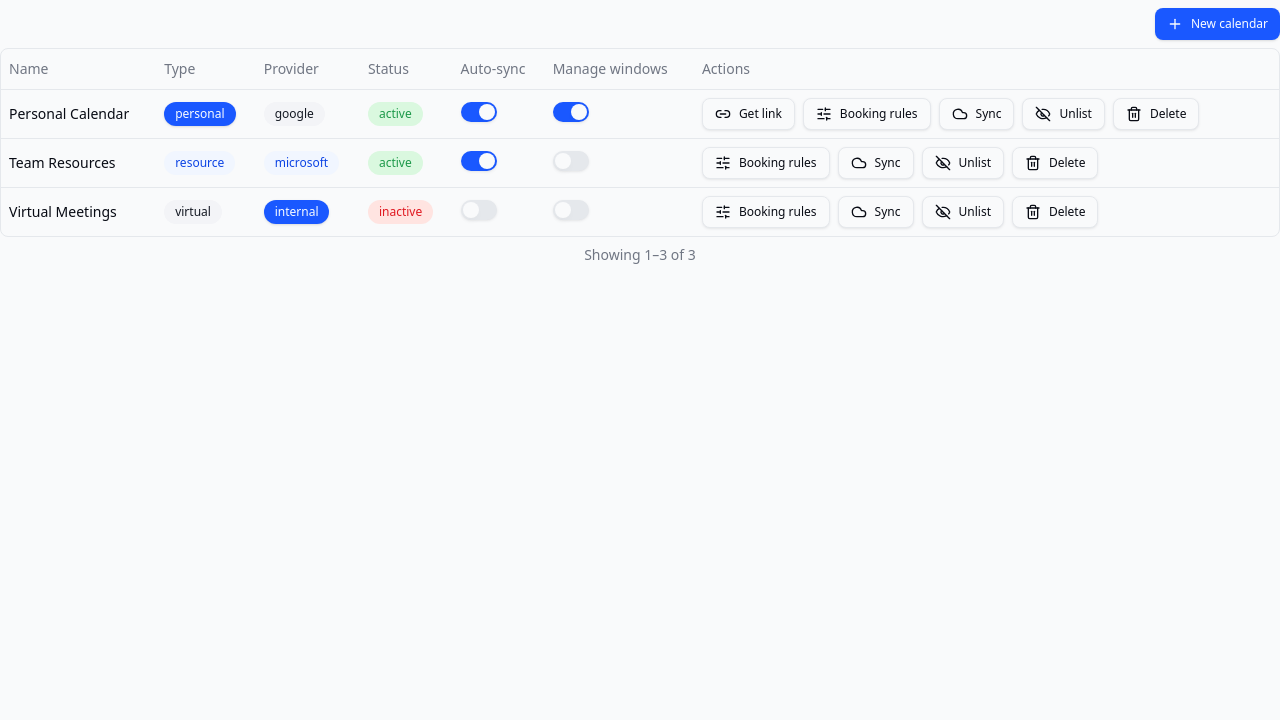
CalendarsTable › get scheduling link action › opens the mint dialog for the row the action was clicked on
The width and height of the screenshot is (1280, 720).
Step 1. Click the button with aria-label "Get scheduling link for Personal Calendar" → click(748, 114), box x1=702 y1=98 x2=795 y2=130
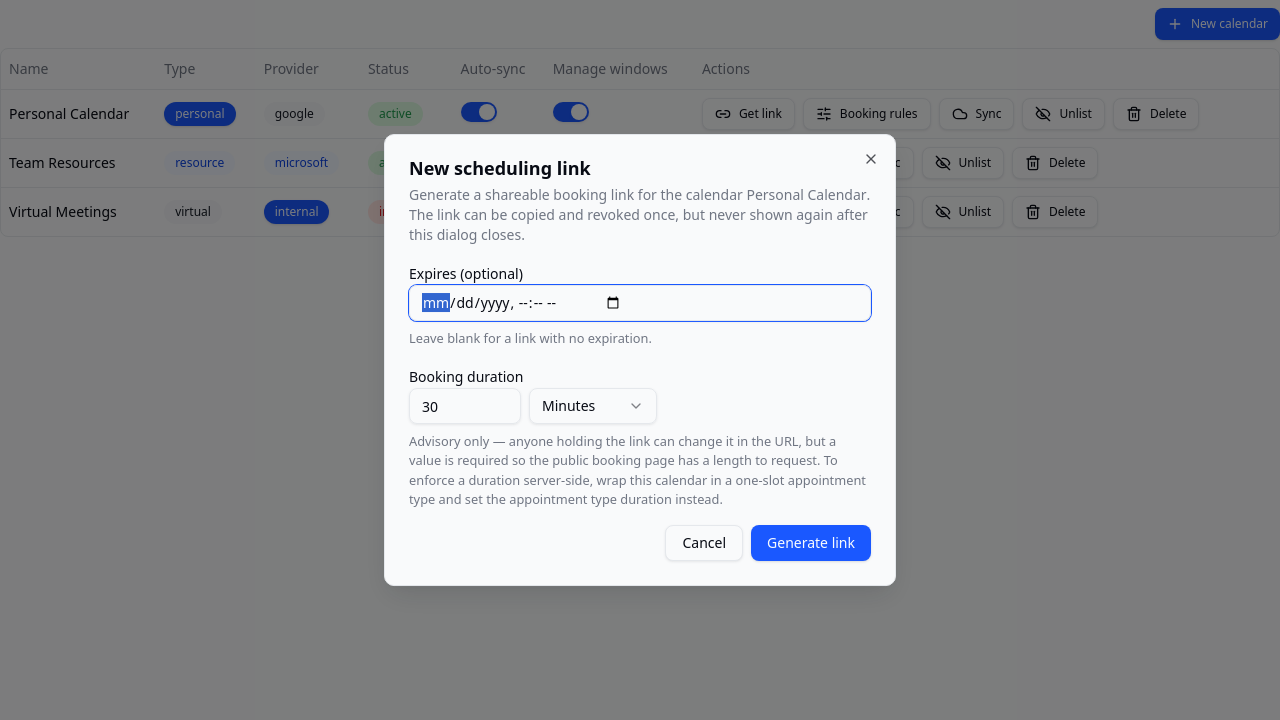
expect the heading "New scheduling link" is shown: met, box x1=409 y1=156 x2=591 y2=180
